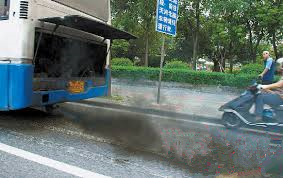smoke: (59, 104, 158, 156)
